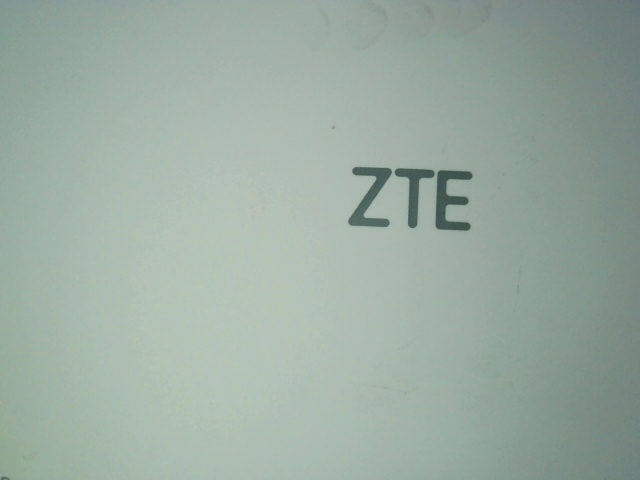AN_ZTE: (340, 158, 473, 243)
